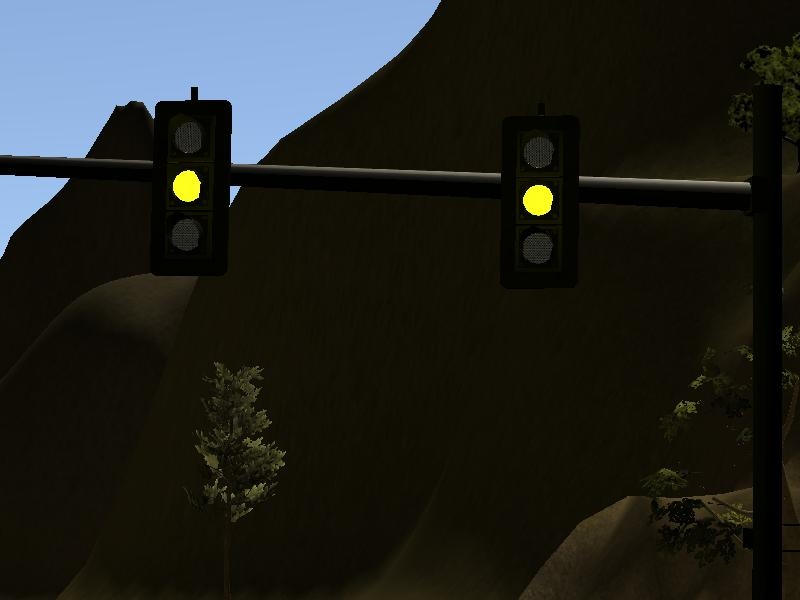yellow: (482, 92, 592, 294), (140, 77, 237, 283)
